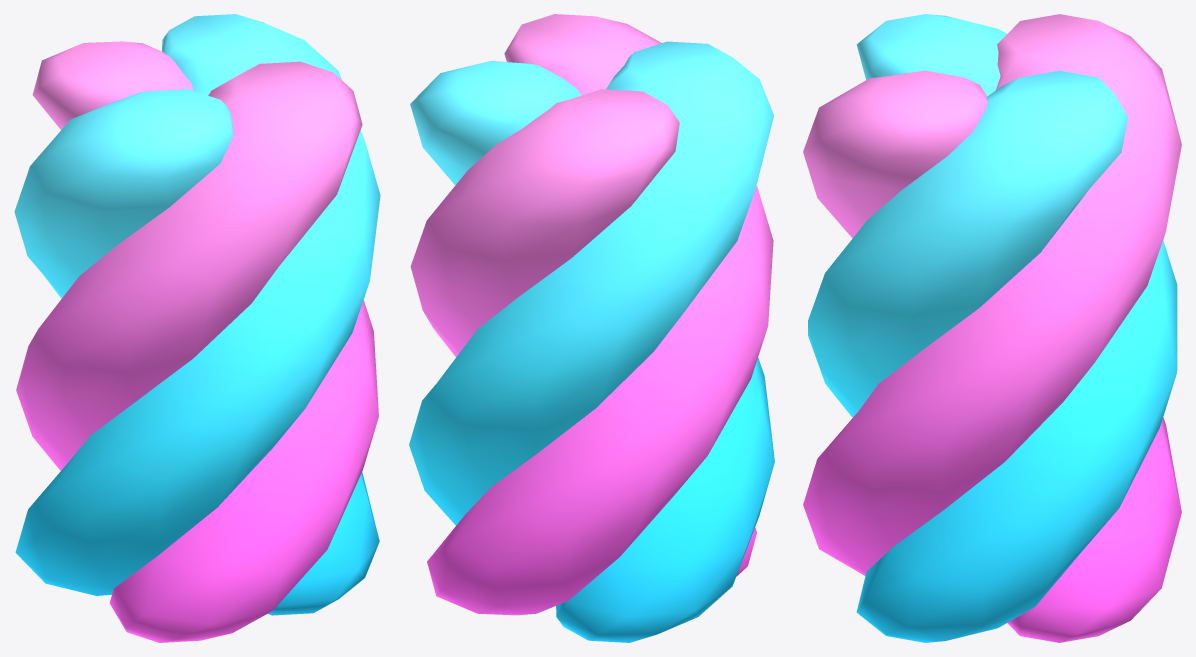
Rendered from Marshmallow_04.glb.
3 views of the same model, side by side, from view 1: azimuth 30°, elevation 25°; view 2: azimuth 150°, elevation 25°; view 3: azimuth 270°, elevation 25° (orthographic). The views are drawn at different scales.
Visible parts, largest first — view 1: Marshmallow_04; view 2: Marshmallow_04; view 3: Marshmallow_04.
Part boxes in pixels (bbox=[...]): Marshmallow_04: bbox=[14, 14, 380, 642]; Marshmallow_04: bbox=[409, 14, 774, 642]; Marshmallow_04: bbox=[803, 14, 1181, 642].
Bounding box in the file's own units: 0.6508 × 0.9948 × 0.6506.
Materials: 1 (1 with a texture image).
